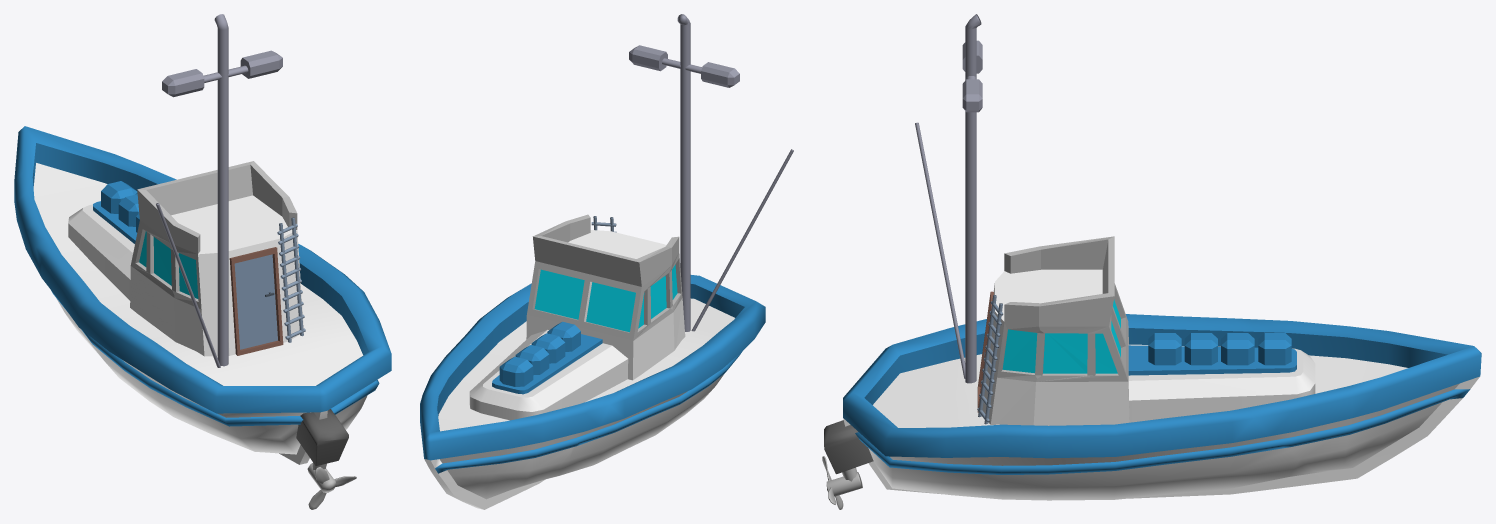
File: Boat.fbx
3 views of the same model, side by side, from view 1: azimuth 30°, elevation 25°; view 2: azimuth 150°, elevation 25°; view 3: azimuth 270°, elevation 25° (orthographic). The views are drawn at different scales.
Visible parts, largest first — view 1: pCylinder1, pCube1, pCube11, pCube2, pCube10, pCylinder17, pCylinder21, pCube6, pCube5; view 2: pCylinder1, pCube1, pCube2, pCube11, pCube6, pCube4, pCube5, pCube3; view 3: pCylinder1, pCube1, pCube2, pCube11, pCube10, pCylinder17, pCube3, pCube4, pCube5, pCube6, pCylinder21.
Boxes of the visible parts, x1,y1,x2,y2 form: pCylinder1: [14, 126, 391, 464]; pCube1: [130, 161, 303, 356]; pCube11: [156, 14, 282, 367]; pCube2: [68, 201, 137, 300]; pCube10: [296, 409, 348, 465]; pCylinder17: [277, 217, 305, 342]; pCylinder21: [307, 462, 356, 509]; pCube6: [101, 181, 137, 213]; pCube5: [118, 194, 139, 226]; pCylinder1: [420, 275, 765, 509]; pCube1: [526, 214, 685, 380]; pCube2: [469, 329, 628, 420]; pCube11: [629, 14, 793, 331]; pCube6: [499, 356, 533, 386]; pCube4: [531, 333, 565, 363]; pCube5: [515, 345, 549, 375]; pCube3: [547, 321, 580, 351]; pCylinder1: [843, 314, 1481, 500]; pCube1: [977, 236, 1129, 425]; pCube2: [1128, 344, 1315, 422]; pCube11: [915, 14, 982, 383]; pCube10: [824, 420, 873, 474]; pCylinder17: [977, 295, 1003, 424]; pCube3: [1148, 333, 1181, 365]; pCube4: [1184, 333, 1217, 365]; pCube5: [1221, 333, 1254, 365]; pCube6: [1258, 333, 1291, 365]; pCylinder21: [822, 456, 862, 509].
Bounding box in the file's own units: 154 × 268 × 333.
